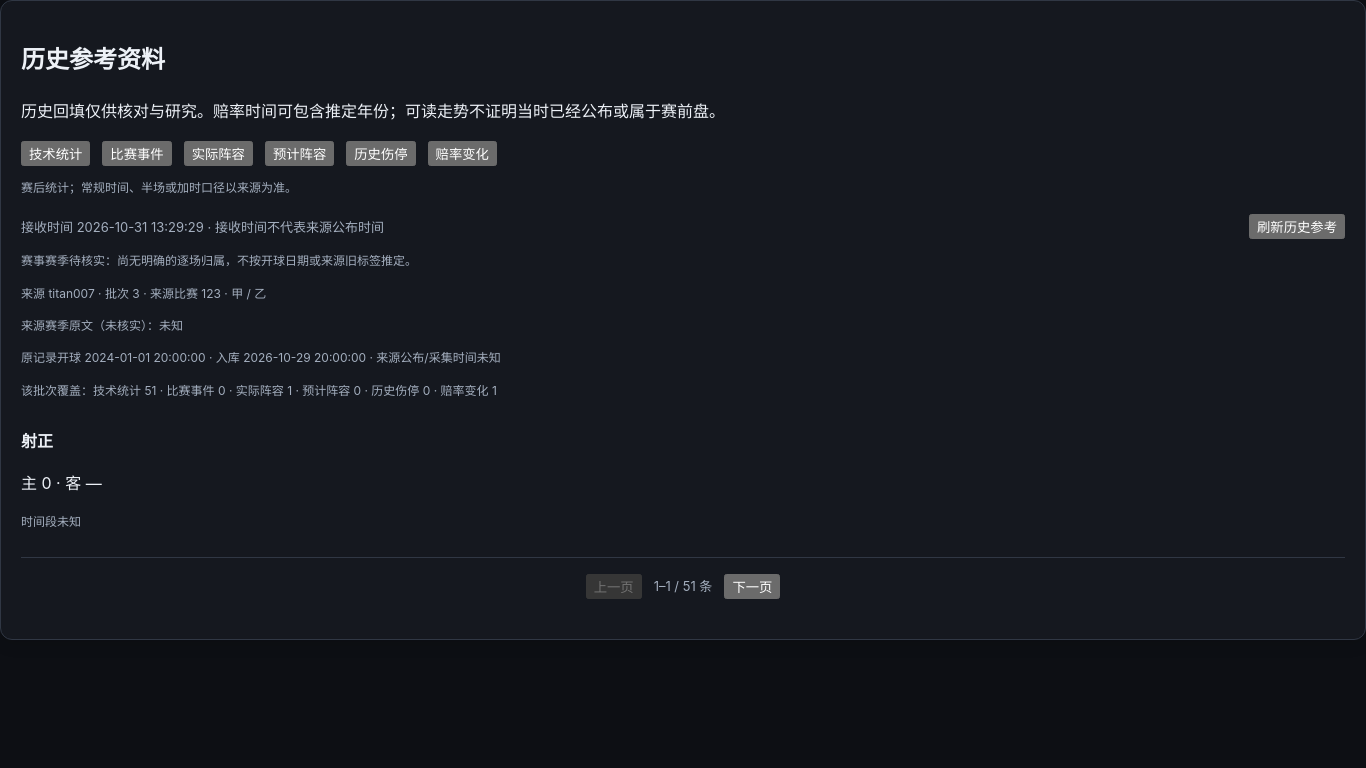
Test: rejects a foreign pinned batch and retries without discarding current evidence
Expected: the text "射正" is shown, [21, 431, 53, 451]
Click the button "刷新历史参考": point(1297, 227) [1249, 214, 1345, 239]
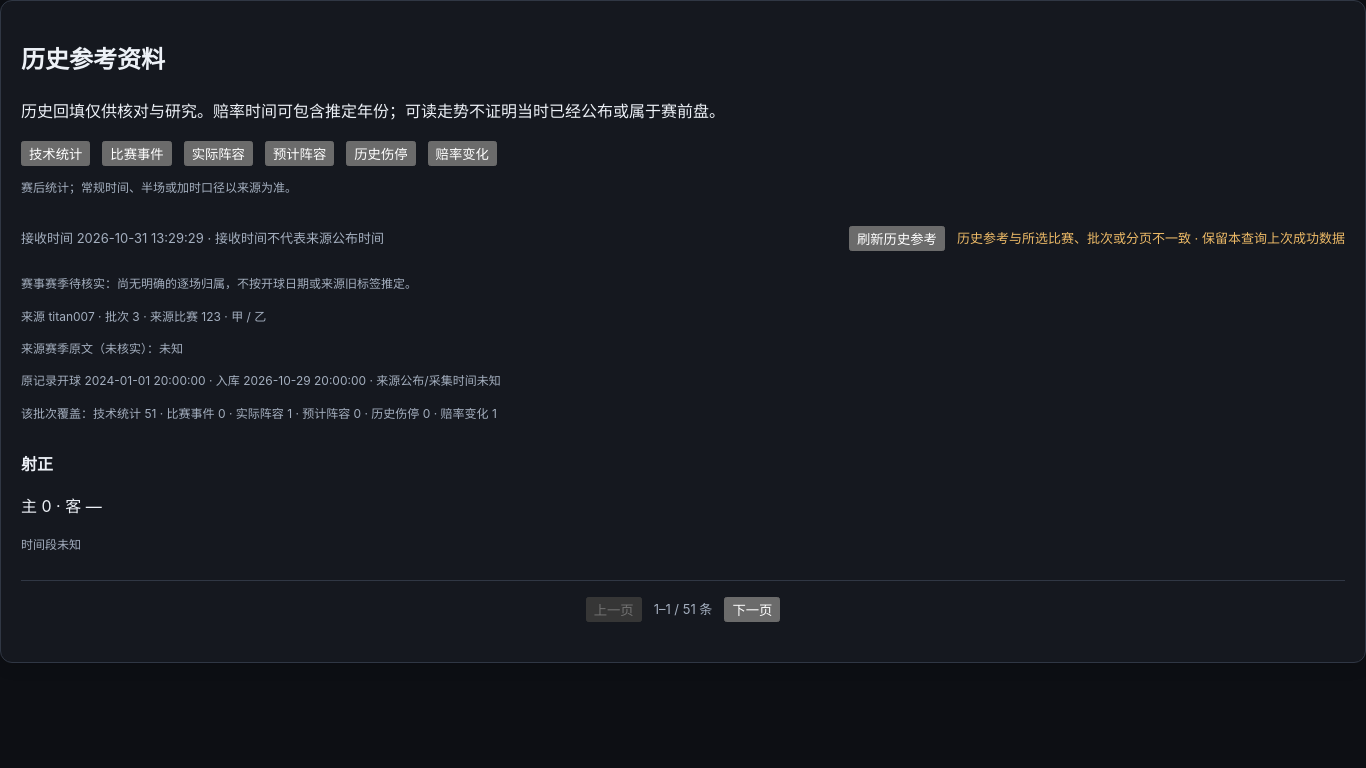
Expected: the text "射正" is shown, [21, 454, 53, 474]
Expected: the message shows "历史参考与所选比赛、批次或分页不一致", [957, 230, 1191, 246]
